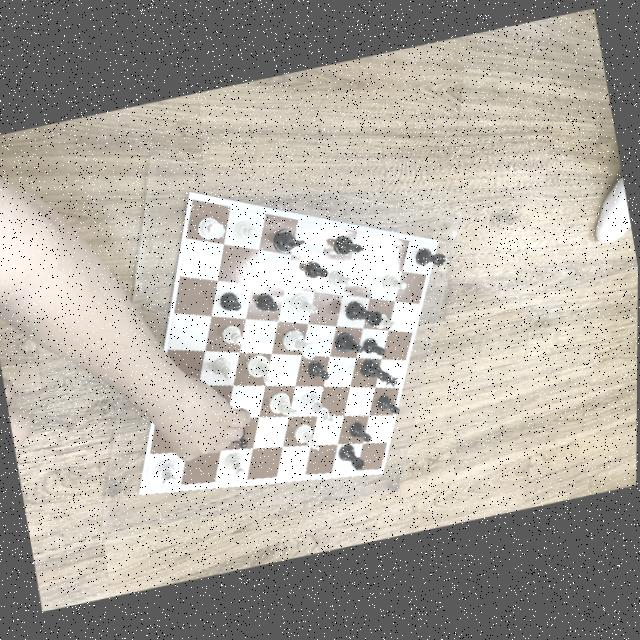chessboard-corner: (135, 488, 144, 498), (185, 188, 192, 198), (435, 237, 441, 248), (379, 472, 386, 480)
